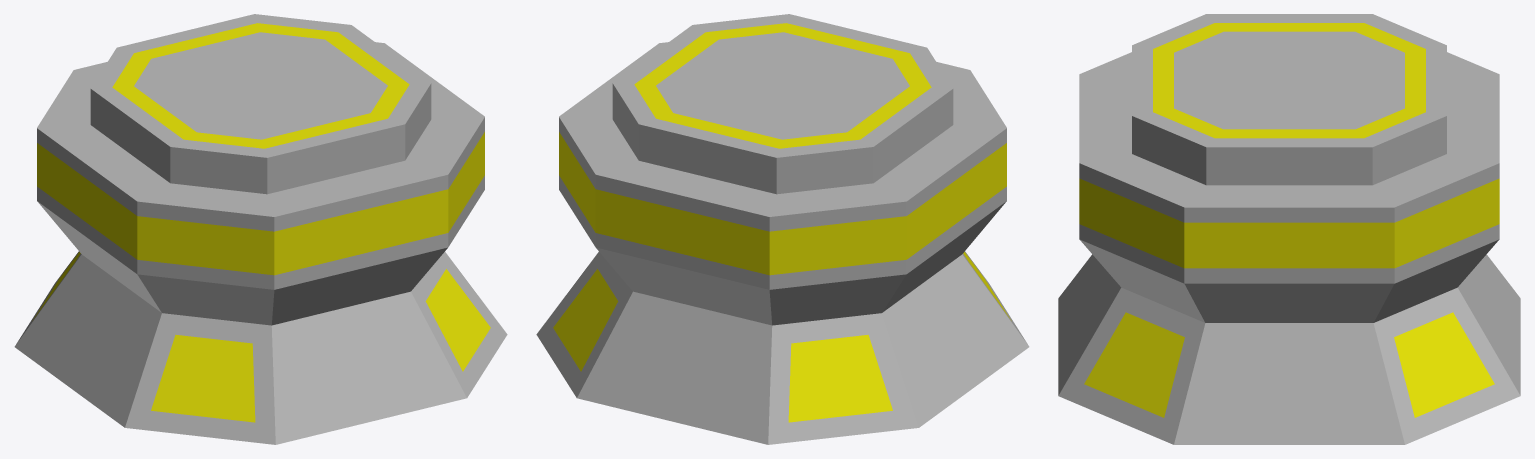
File: Archer Tower lev 2.fbx
3 views of the same model, side by side, from view 1: azimuth 30°, elevation 25°; view 2: azimuth 150°, elevation 25°; view 3: azimuth 270°, elevation 25° (orthographic). The views are drawn at different scales.
Parts seen in each view (by area): view 1: Torre Wizzard.027; view 2: Torre Wizzard.027; view 3: Torre Wizzard.027.
Part boxes in pixels (x1,y1,x2,y2): Torre Wizzard.027: [14, 14, 507, 444]; Torre Wizzard.027: [536, 14, 1029, 444]; Torre Wizzard.027: [1058, 14, 1520, 444].
Size of the model in its own units: 16.5 by 10.5 by 16.5.
